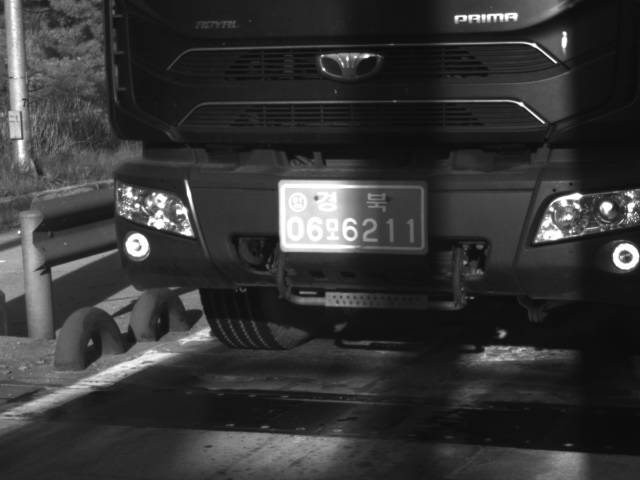car: (103, 1, 640, 352)
plate: (276, 177, 430, 257)
